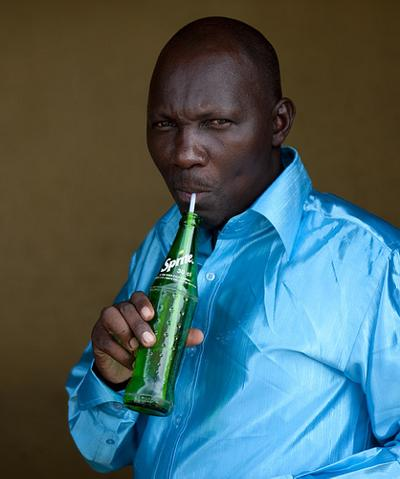person: (64, 13, 400, 479)
